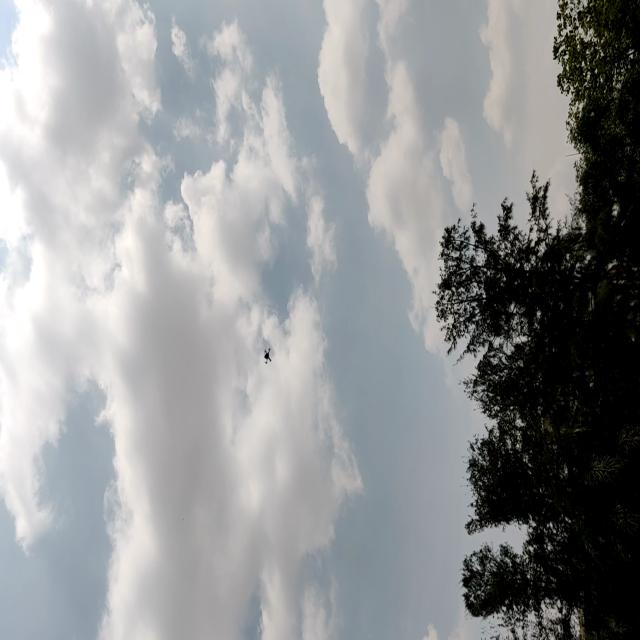drone: (258, 338, 276, 367)
